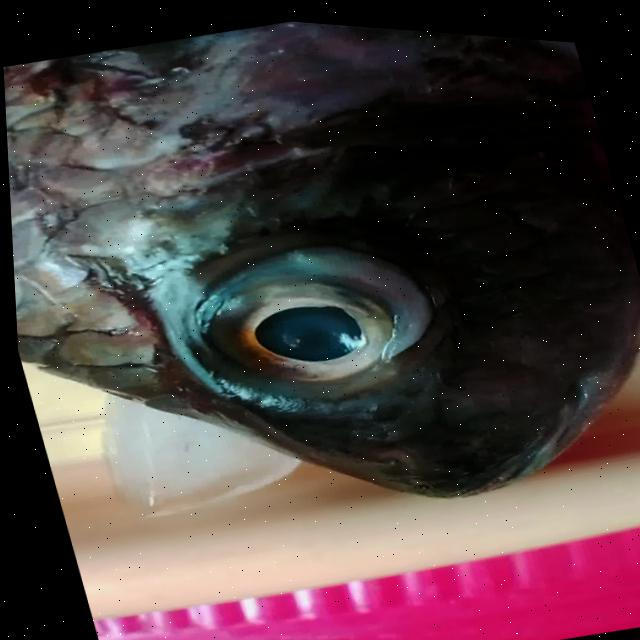Fresh: (84, 175, 487, 468)
